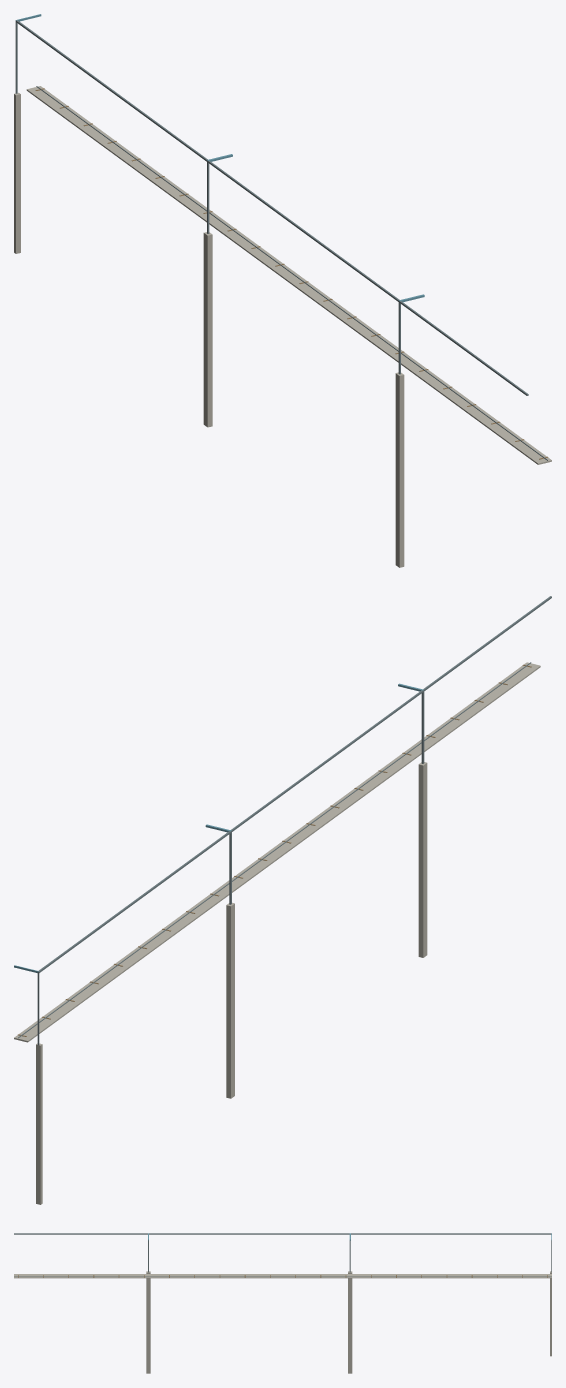
The model's file is valley-7-7.glb.
The picture shows the model from 3 angles, top to bottom: view 1: azimuth 30°, elevation 25°; view 2: azimuth 150°, elevation 25°; view 3: azimuth 270°, elevation 25°; orthographic projection. The views are drawn at different scales.
Parts seen in each view (by area): view 1: valley-7-7; view 2: valley-7-7; view 3: valley-7-7.
Part boxes in pixels (left/top/right/bottom): valley-7-7: left=14, top=14, right=551, bottom=567; valley-7-7: left=14, top=596, right=551, bottom=1204; valley-7-7: left=14, top=1233, right=551, bottom=1373.
Bounding box in the file's own units: 7.7 × 73.25 × 256.
